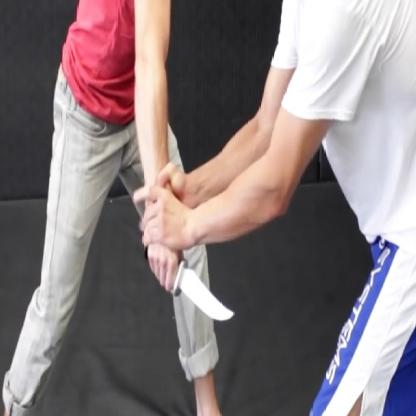knife: (141, 243, 237, 329)
